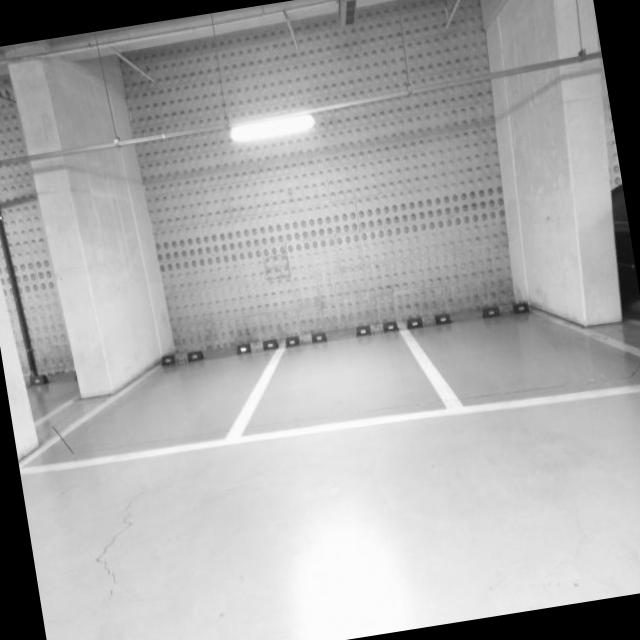free: (20, 322, 295, 468), (410, 282, 636, 406), (242, 305, 448, 437)
